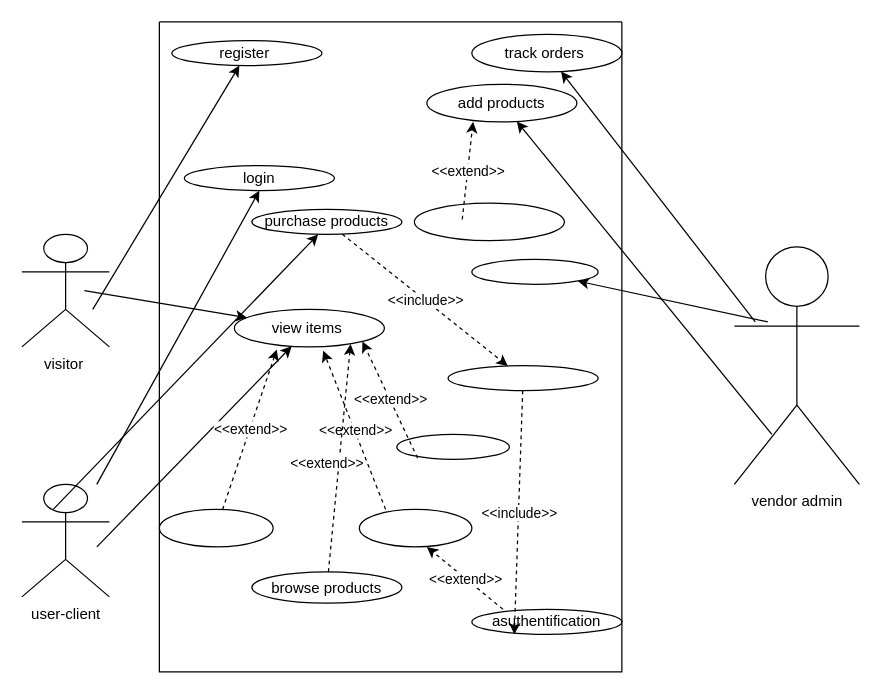
Image size: 881x694. Some labels were removed from this diagram. Each missing label, with the box of its shape:
AddToCart: (358, 508, 472, 547)
checkout: (447, 364, 598, 391)
remove products: (413, 202, 564, 241)
removefromcart: (396, 433, 509, 459)
search products: (158, 508, 273, 547)
view reports: (471, 258, 598, 284)
